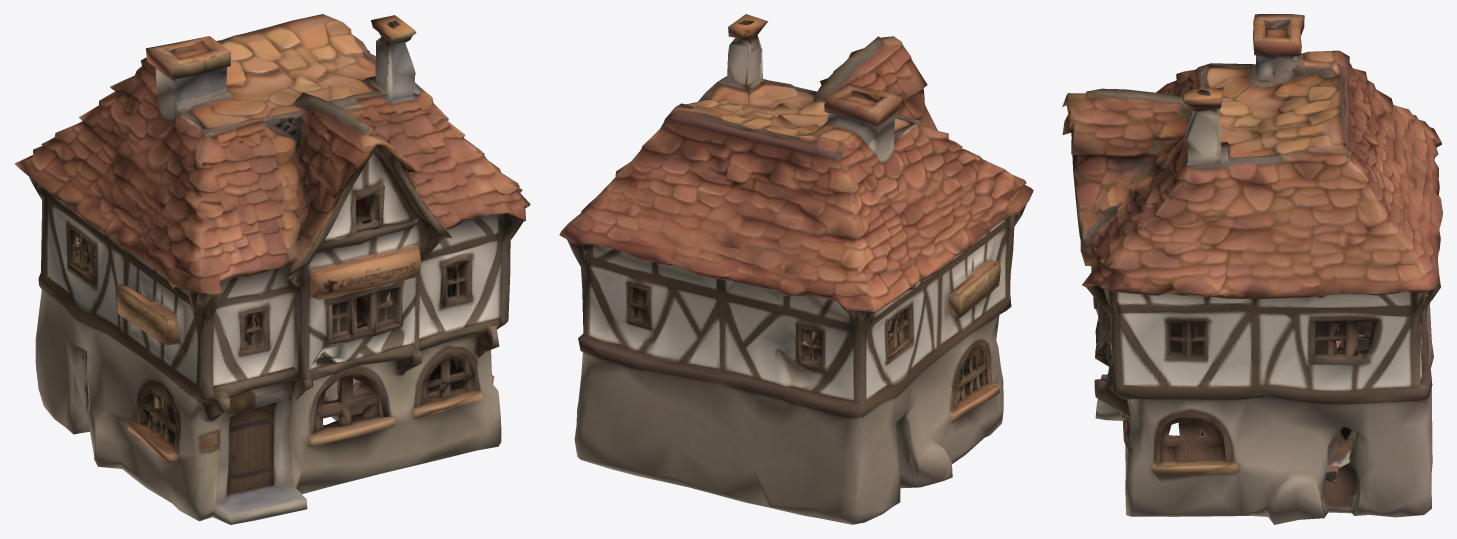
Rendered from A_whimsical_medieval__1104084923_texture.glb.
3 renders of one model, left to right at view 1: azimuth 30°, elevation 25°; view 2: azimuth 150°, elevation 25°; view 3: azimuth 270°, elevation 25°, orthographic. The views are drawn at different scales.
Size of the model in its own units: 1.82 by 2.01 by 1.76.
Materials: 1 (1 with a texture image).
